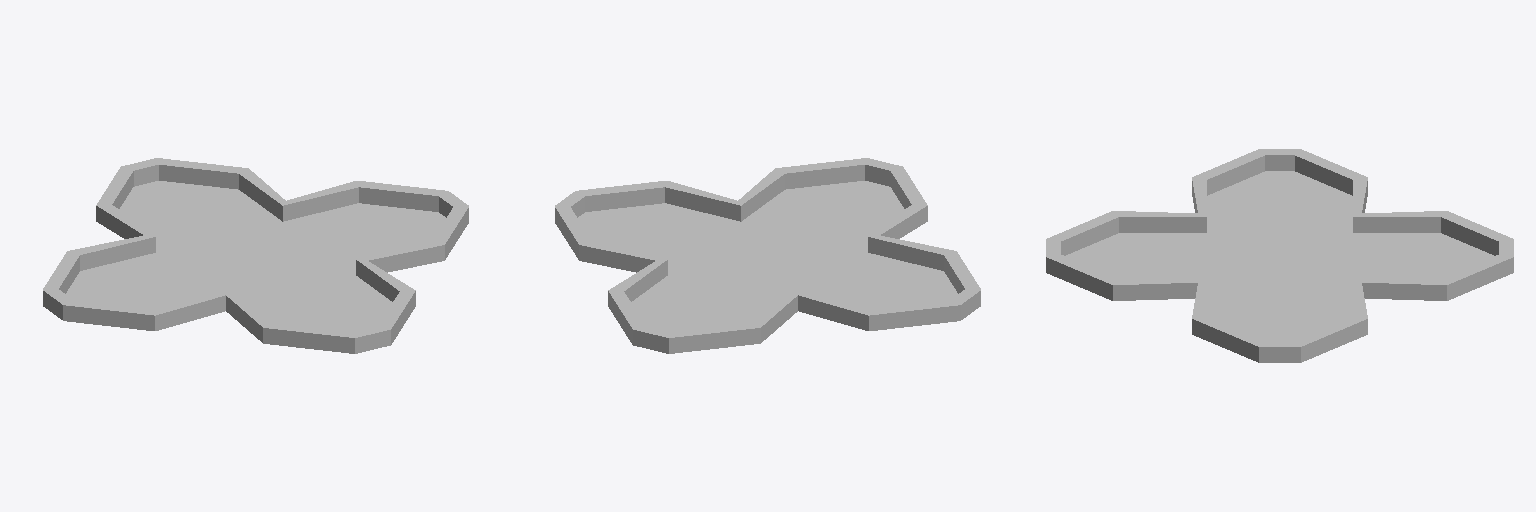
File: TallBottomRoof.obj
3 views of the same model, side by side, from view 1: azimuth 30°, elevation 25°; view 2: azimuth 150°, elevation 25°; view 3: azimuth 270°, elevation 25° (orthographic).
Parts seen in each view (by area): view 1: TallBottomRoof KA_BLDG8_grp KA_BLDG8_Architect; view 2: TallBottomRoof KA_BLDG8_grp KA_BLDG8_Architect; view 3: TallBottomRoof KA_BLDG8_grp KA_BLDG8_Architect.
Boxes of the visible parts, x1=… form: TallBottomRoof KA_BLDG8_grp KA_BLDG8_Architect: x1=43, y1=158, x2=468, y2=353; TallBottomRoof KA_BLDG8_grp KA_BLDG8_Architect: x1=555, y1=158, x2=980, y2=353; TallBottomRoof KA_BLDG8_grp KA_BLDG8_Architect: x1=1046, y1=149, x2=1513, y2=362.
Size of the model in its own units: 2995 by 112 by 2995.